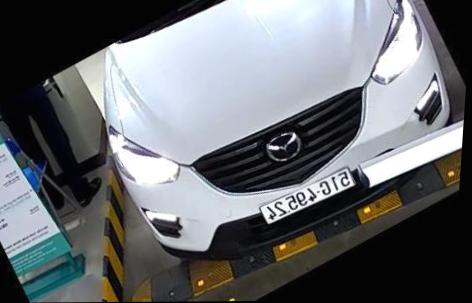License_Plate: (258, 158, 359, 231)
